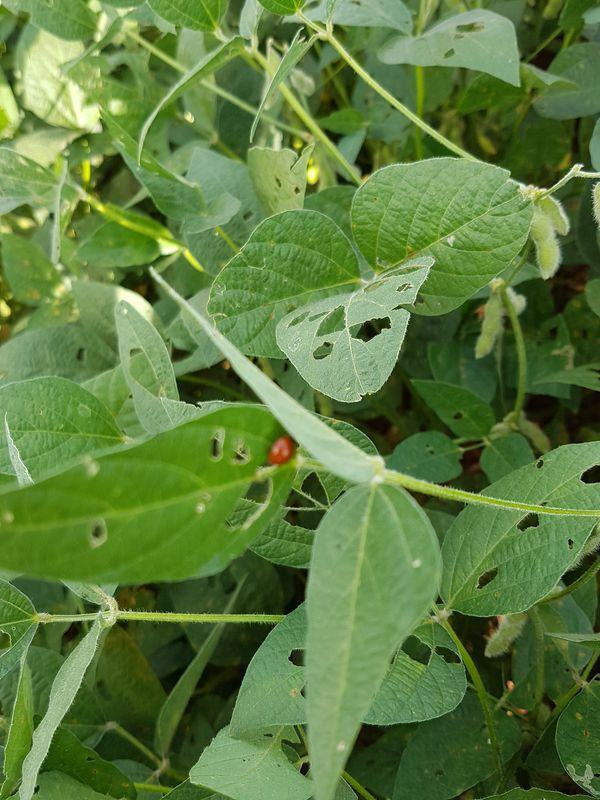Coccinellidae: (258, 430, 302, 470)
